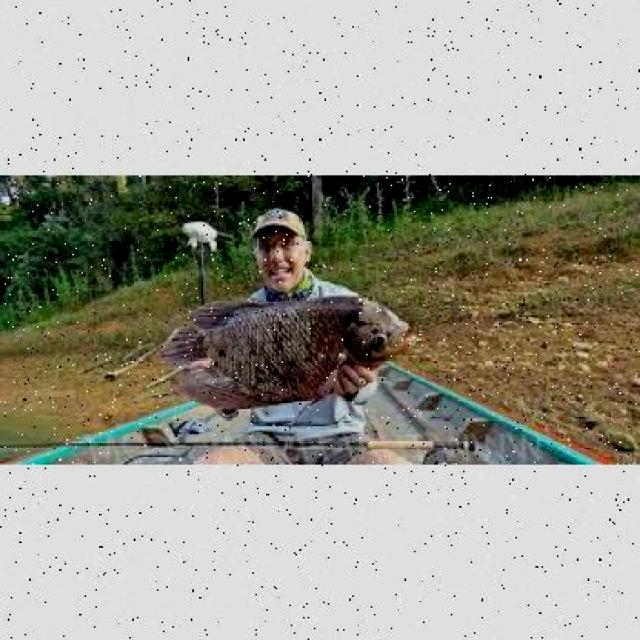gurame: (177, 296, 414, 409)
